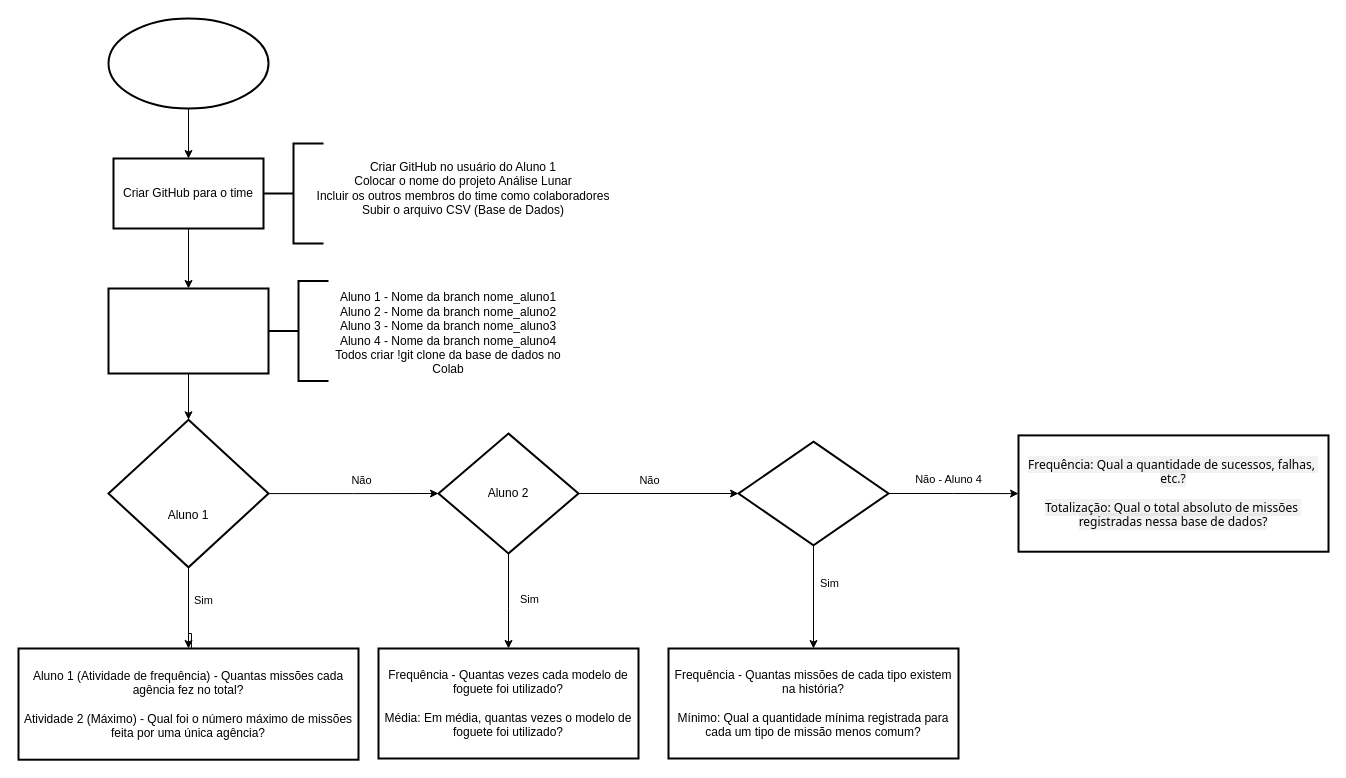
Some shapes in this 1346 by 778 pixel diagram are drawn without their labels. Here are the shapes that lost their labels. From the top down, the centre of each, then its label:
(188,63): Inicio do Projeto
(188,330): Abrir IDE
(813,493): Aluno 3
